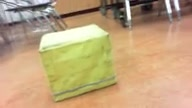cube: (38, 23, 117, 101)
